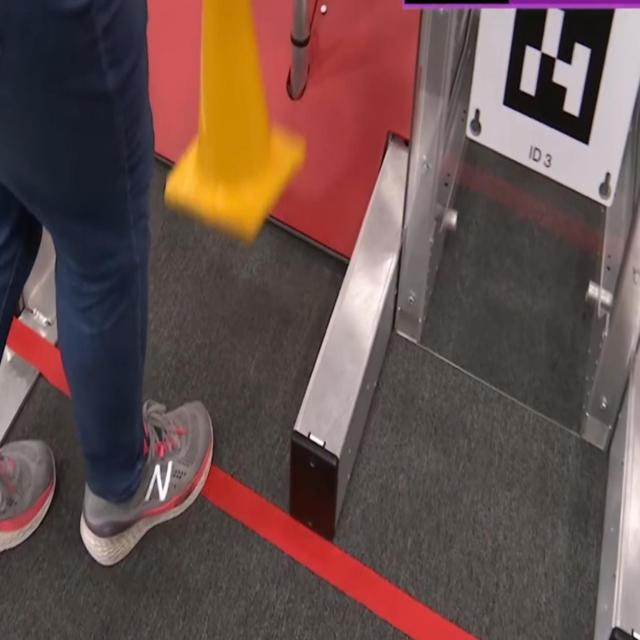frc_cone: (163, 2, 305, 240)
